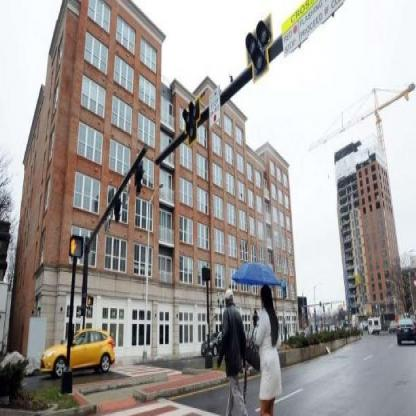Don-t Walk: (68, 234, 83, 265)
